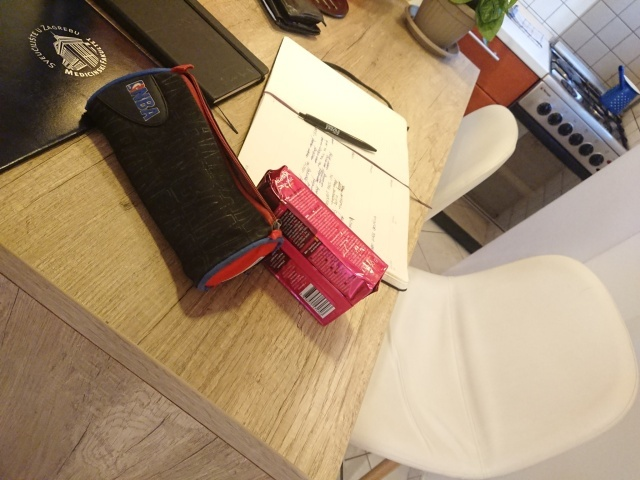Barcaffe Classic Original 225g: (230, 162, 392, 330)
